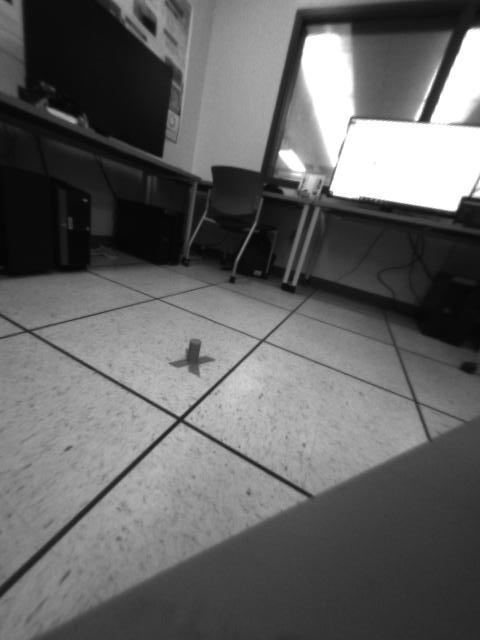X: (169, 338, 216, 378)
